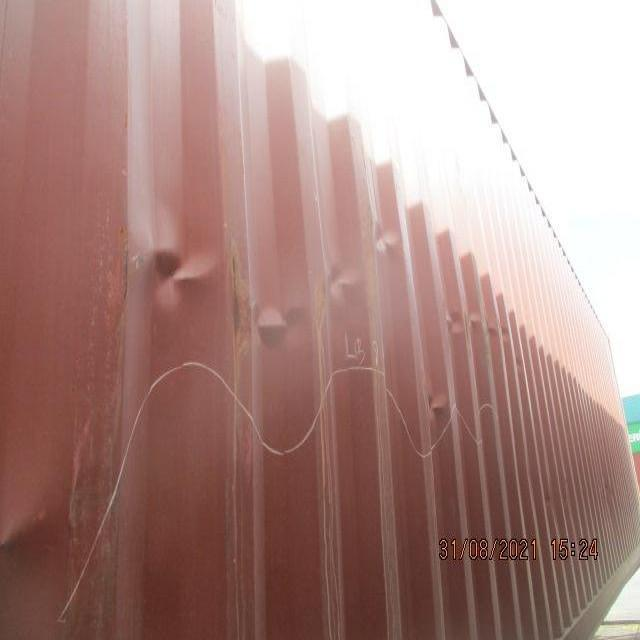Dent: (120, 188, 420, 369), (434, 299, 517, 356)
Minor-Dent: (413, 373, 455, 432)
